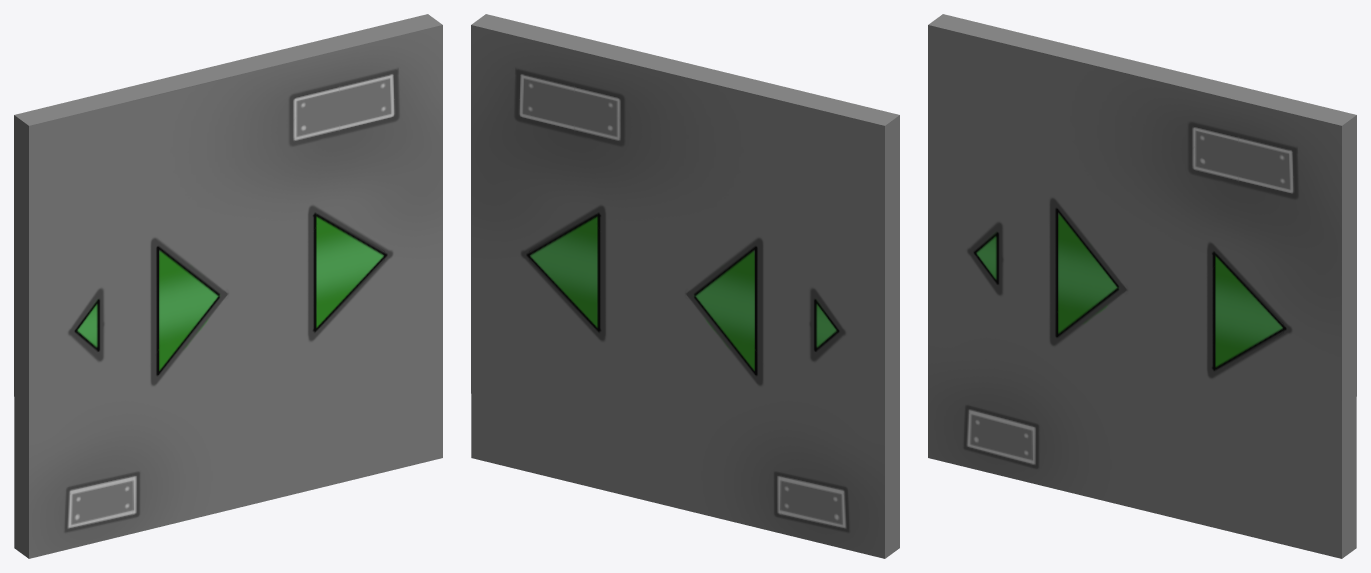
File: space_wall2.gltf
The picture shows the model from 3 angles, left to right: view 1: azimuth 30°, elevation 25°; view 2: azimuth 150°, elevation 25°; view 3: azimuth 330°, elevation 25°; orthographic projection.
Visible parts, largest first — view 1: space_wall2_glb; view 2: space_wall2_glb; view 3: space_wall2_glb.
Boxes of the visible parts, x1=… form: space_wall2_glb: x1=14, y1=14, x2=442, y2=558; space_wall2_glb: x1=471, y1=14, x2=899, y2=558; space_wall2_glb: x1=928, y1=14, x2=1356, y2=558.
Size of what is drawn, in the model's own units: 4 by 4 by 0.25.
1 material, 1 textured.
